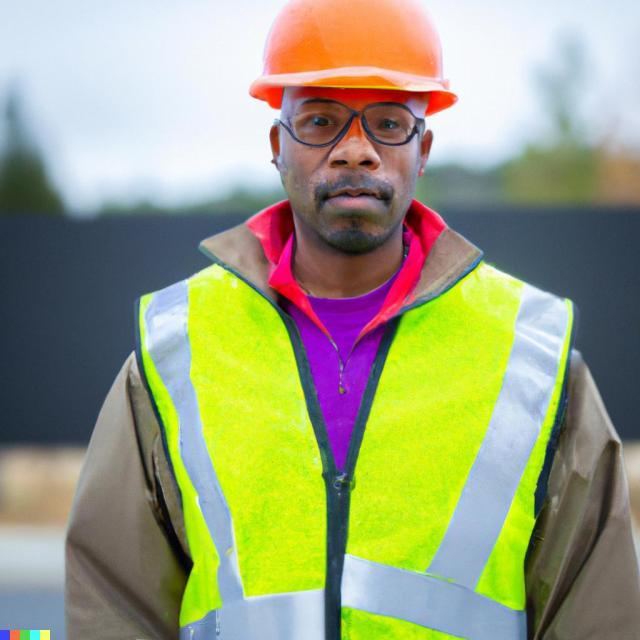Vest: (138, 248, 580, 640)
